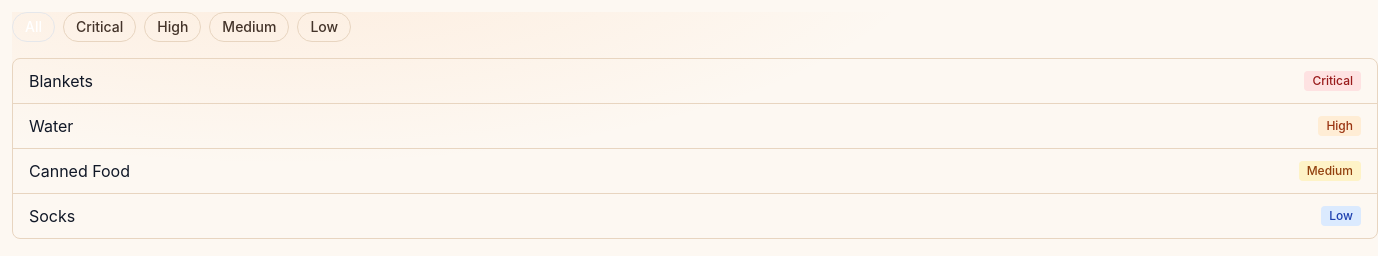
Test: NeedsFilter › clicking "All" after a filter restores full list
What coordinates should you click on to do the following:
click the button "Critical"
I would click on:
 (100, 27)
Its box is [63,12,136,42].
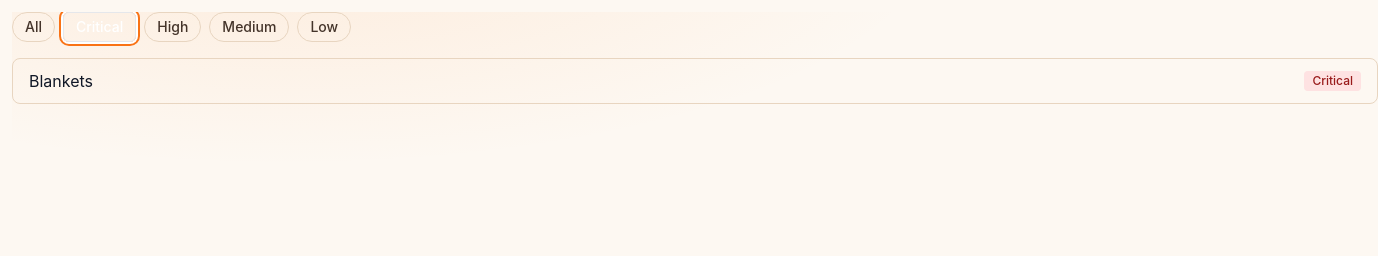
What coordinates should you click on to do the following:
click the button "All"
I would click on:
 (34, 27)
Its box is [12,12,55,42].
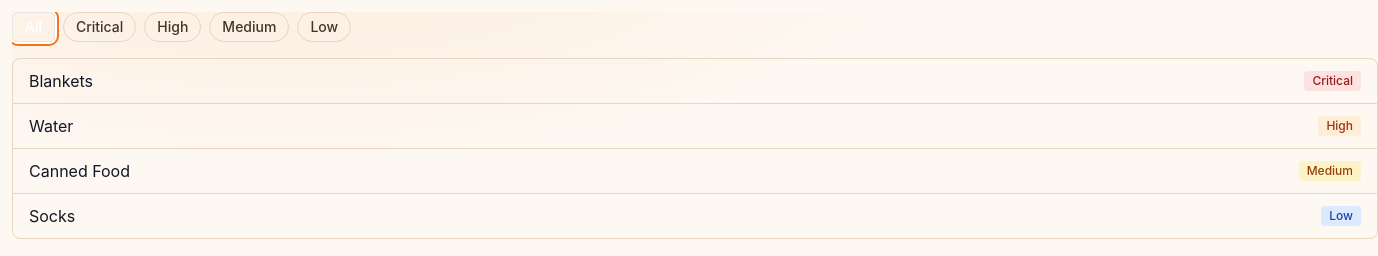
Now the text "water" is shown, box [29,114,73,138]
Now the text "canned food" is shown, box [29,159,130,183]
Now the text "socks" is shown, box [29,204,75,228]
